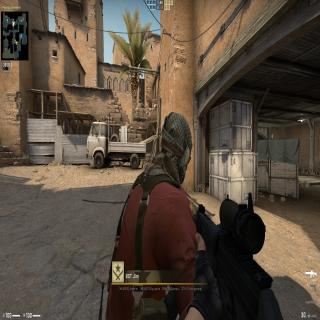T-Head: (161, 113, 193, 188)
